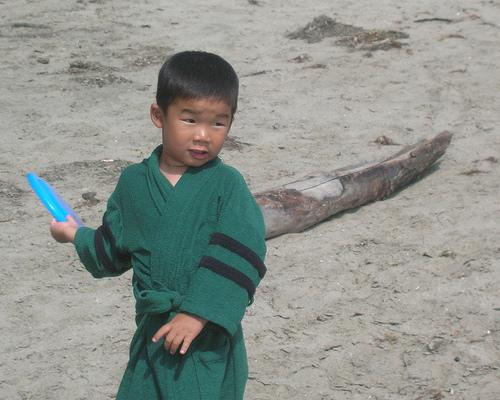person: (49, 48, 265, 399)
